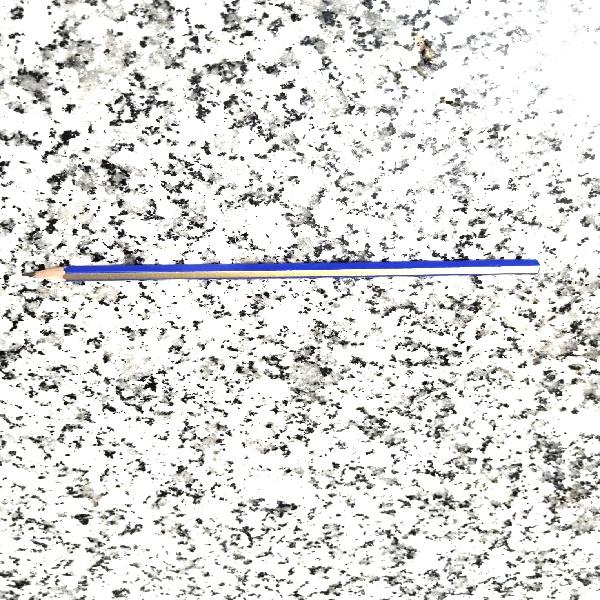pencil: (28, 254, 545, 282)
